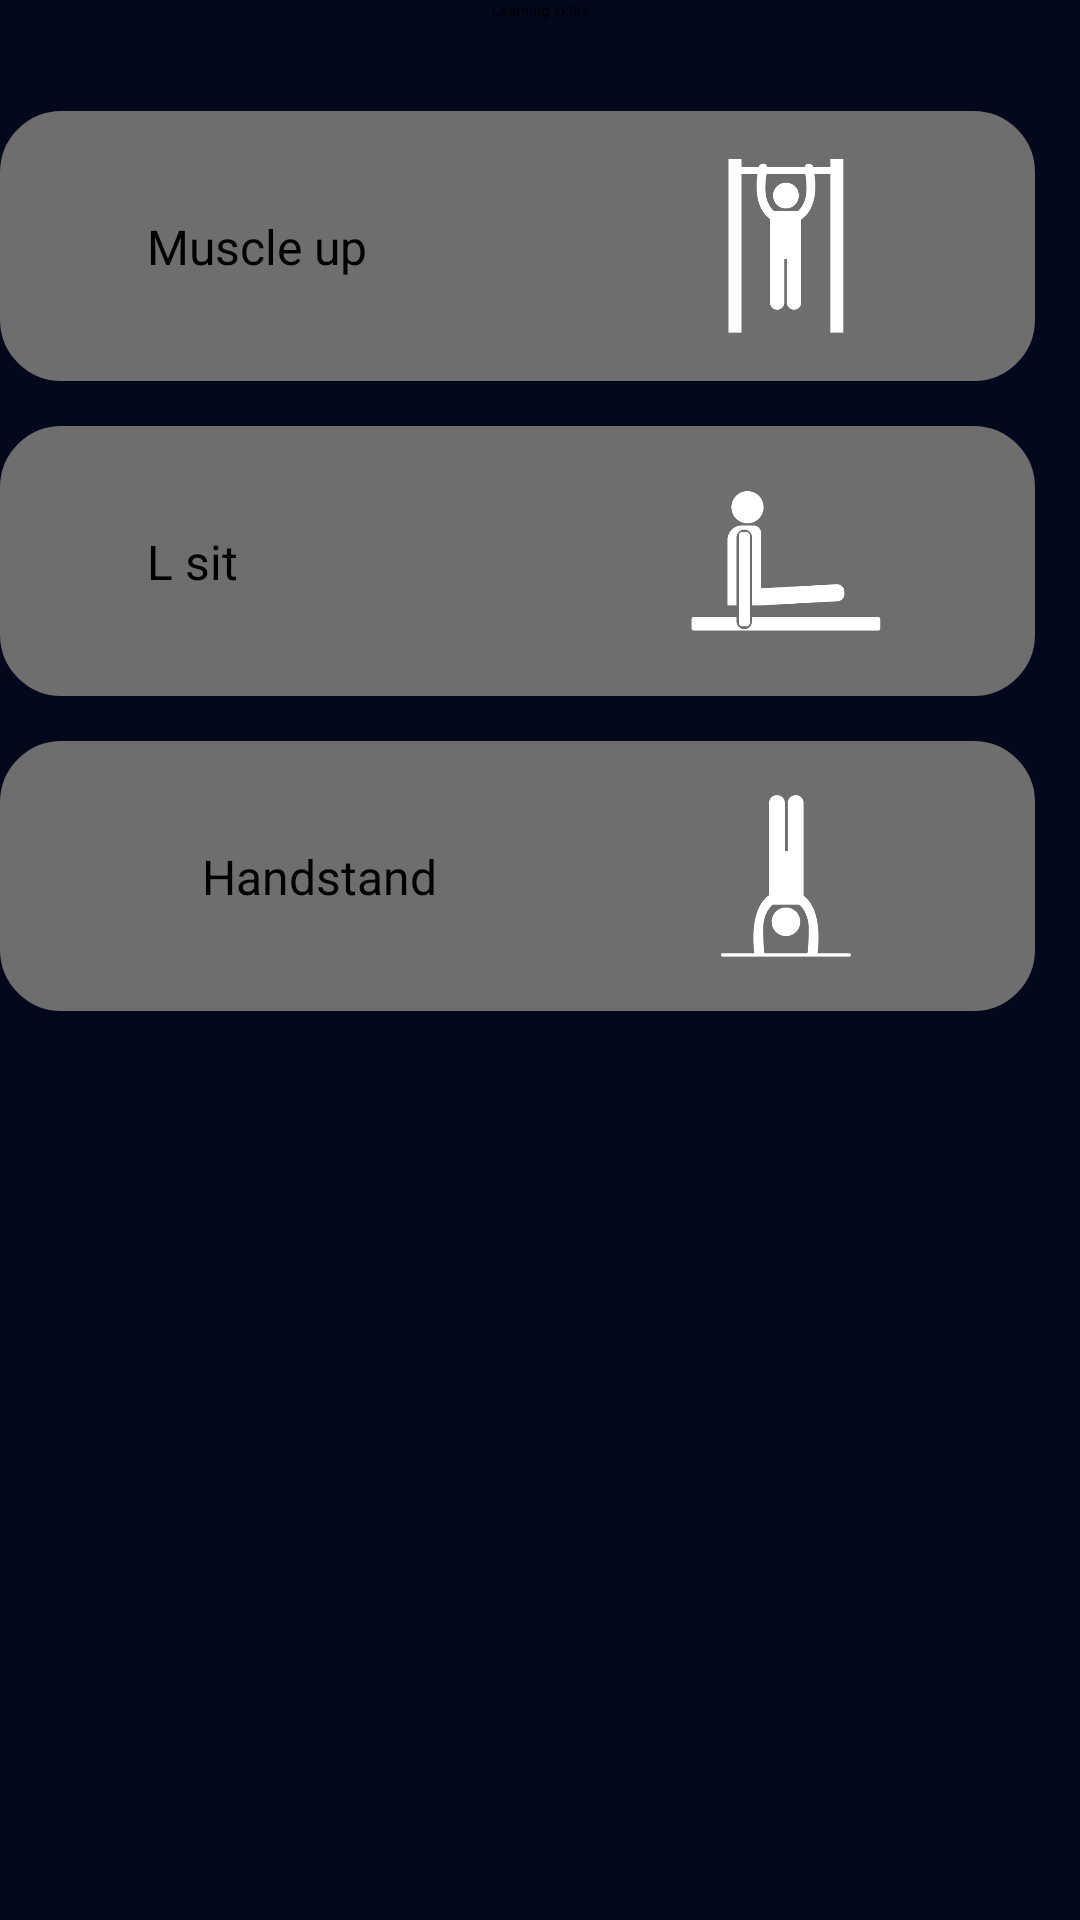

Icons on this 1080 × 1920 Android screen, each with the point to tap as (x=x, y=y):
handstand: (x=786, y=876)
pullup: (x=786, y=246)
